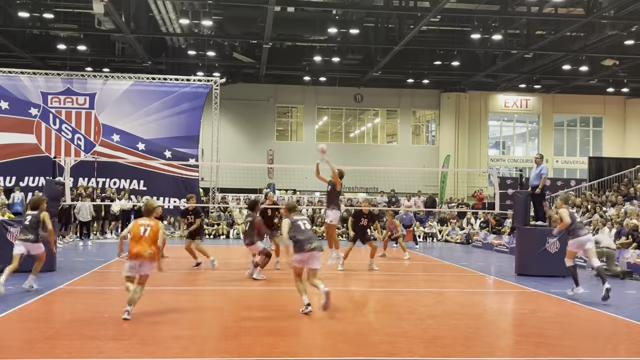alzata: (312, 154, 349, 264)
